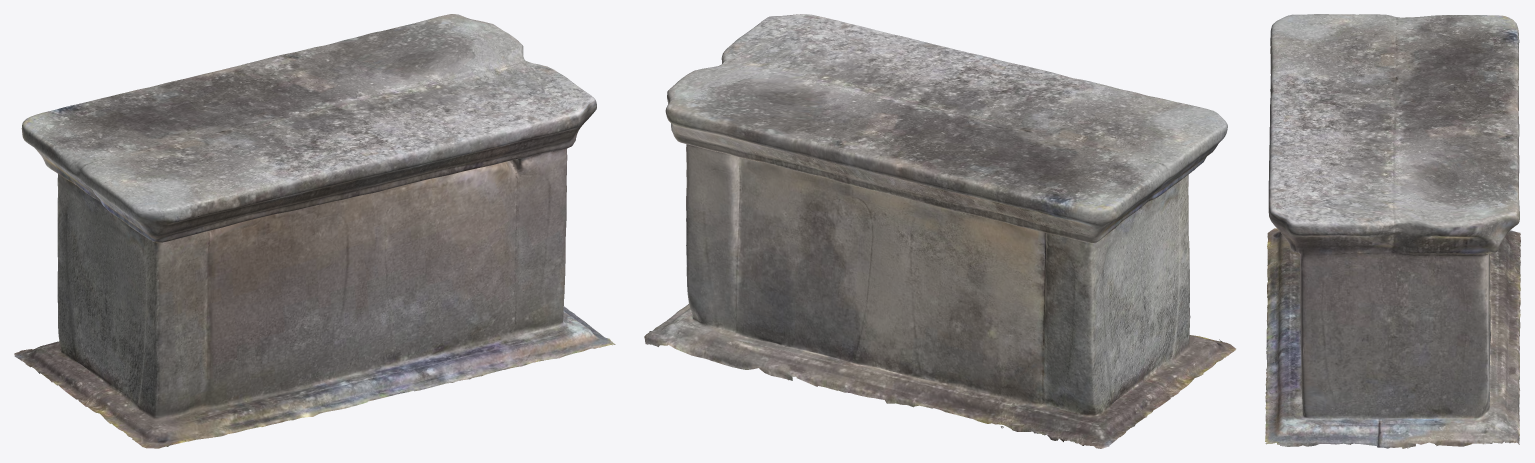
Rendered from table.glb.
The picture shows the model from 3 angles, left to right: view 1: azimuth 30°, elevation 25°; view 2: azimuth 150°, elevation 25°; view 3: azimuth 270°, elevation 25°; orthographic projection. The views are drawn at different scales.
Parts seen in each view (by area): view 1: Object_2; view 2: Object_2; view 3: Object_2.
Part boxes in pixels (x1,y1,x2,y2): Object_2: [14, 14, 615, 448]; Object_2: [644, 14, 1235, 448]; Object_2: [1265, 14, 1520, 448].
Bounding box in the file's own units: 2.45 × 1.23 × 1.26.
1 material, 1 textured.
